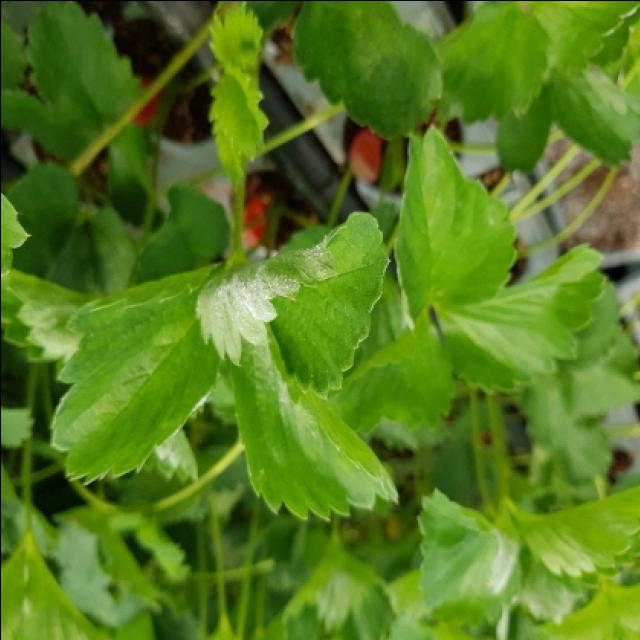Powdery Mildew Leaf: (47, 263, 220, 486), (192, 210, 389, 398), (227, 325, 399, 520)
